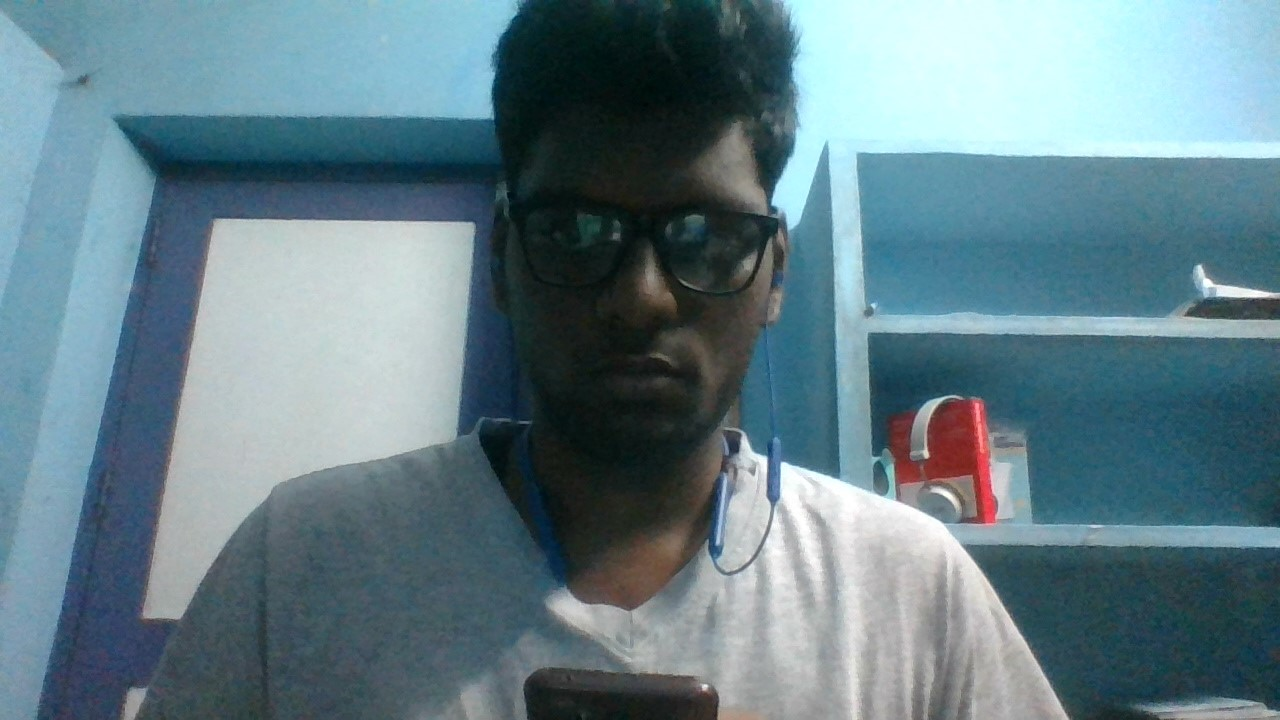mobile phone: (509, 653, 742, 720)
person: (151, 5, 1074, 720)
